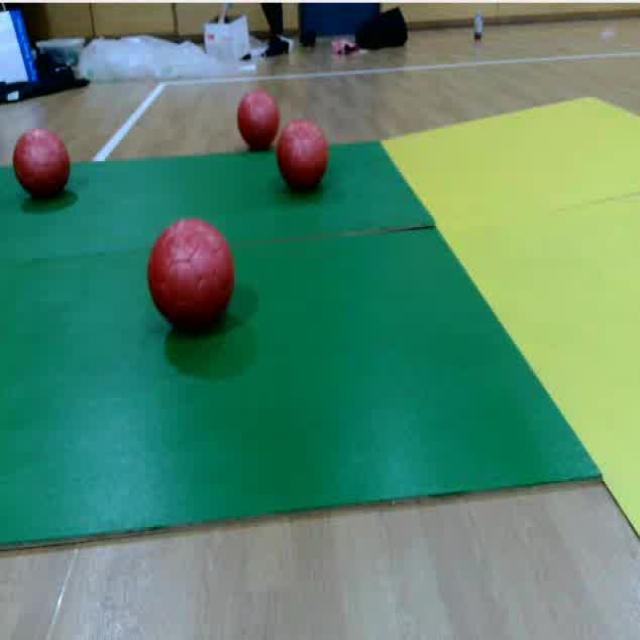red_ball: (144, 218, 242, 342), (12, 126, 72, 202), (277, 116, 332, 196), (234, 90, 283, 155)
